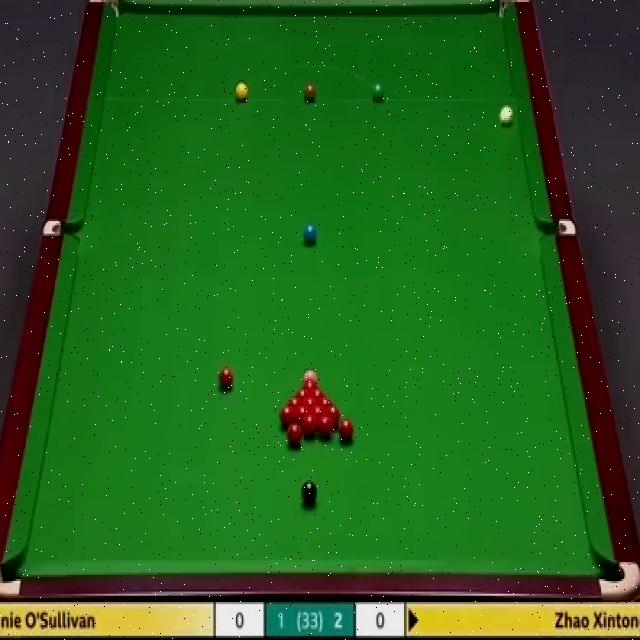black-ball: (300, 479, 318, 507)
blue-ball: (303, 222, 317, 245)
brown-ball: (302, 80, 318, 103)
green-ball: (369, 82, 385, 104)
pink-ball: (302, 369, 318, 384)
red-ball: (217, 367, 236, 393), (339, 419, 357, 445), (286, 422, 304, 445), (278, 405, 297, 426), (302, 414, 318, 436), (318, 415, 333, 438), (296, 405, 312, 422), (313, 406, 326, 426), (327, 405, 340, 424), (304, 398, 320, 407), (318, 397, 334, 406), (288, 397, 303, 406), (294, 390, 310, 398), (310, 389, 324, 398), (301, 382, 318, 389)
white-ball: (497, 100, 514, 129)
yellow-ball: (234, 80, 249, 102)
